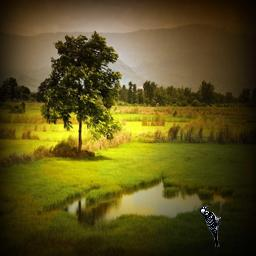Woodpecker: (199, 205, 221, 247)
